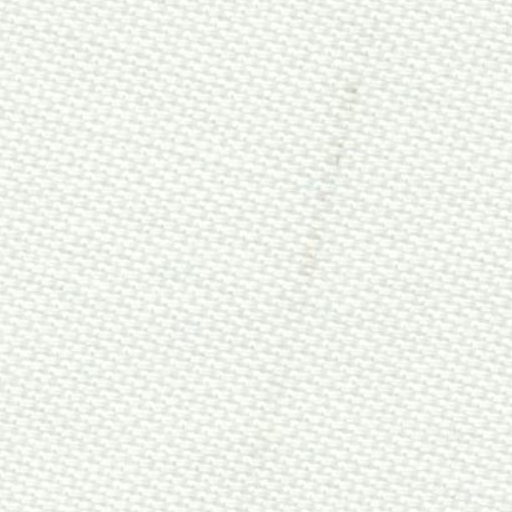WuZi: (280, 47, 372, 342)
